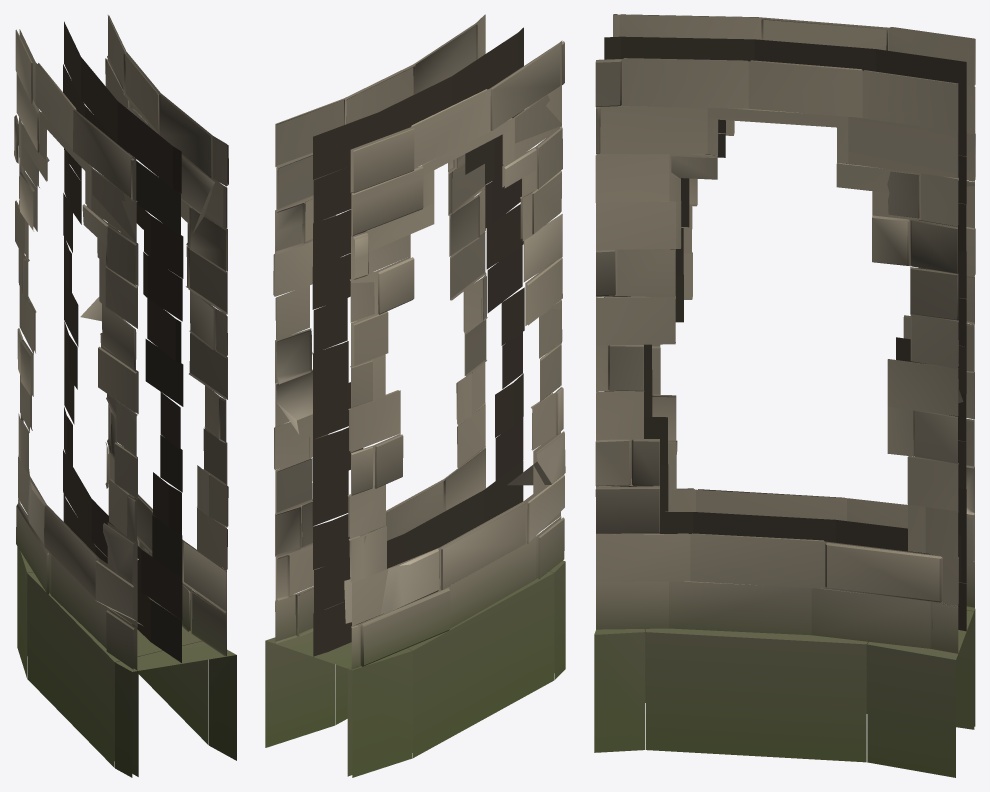
File: baths_wall_w_holed.glb
The picture shows the model from 3 angles, left to right: view 1: azimuth 30°, elevation 25°; view 2: azimuth 150°, elevation 25°; view 3: azimuth 270°, elevation 25°; orthographic projection. The views are drawn at different scales.
Visible parts, largest first — view 1: baths_wall_w_holed, baths_wall_w_holed_far; view 2: baths_wall_w_holed, baths_wall_w_holed_far; view 3: baths_wall_w_holed_far, baths_wall_w_holed.
Boxes of the visible parts, box(x1,y1,x2,y2) form: baths_wall_w_holed: box(14, 15, 236, 777); baths_wall_w_holed_far: box(18, 15, 227, 776); baths_wall_w_holed: box(265, 18, 565, 777); baths_wall_w_holed_far: box(274, 14, 562, 776); baths_wall_w_holed_far: box(595, 14, 974, 729); baths_wall_w_holed: box(594, 14, 975, 777).
Size of the model in its own units: 7.12 by 29 by 14.57.
